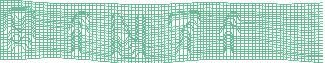7: (166, 9, 202, 58)
9: (3, 6, 38, 53)
N: (111, 13, 148, 59)
f: (217, 10, 242, 57), (66, 11, 92, 55)
